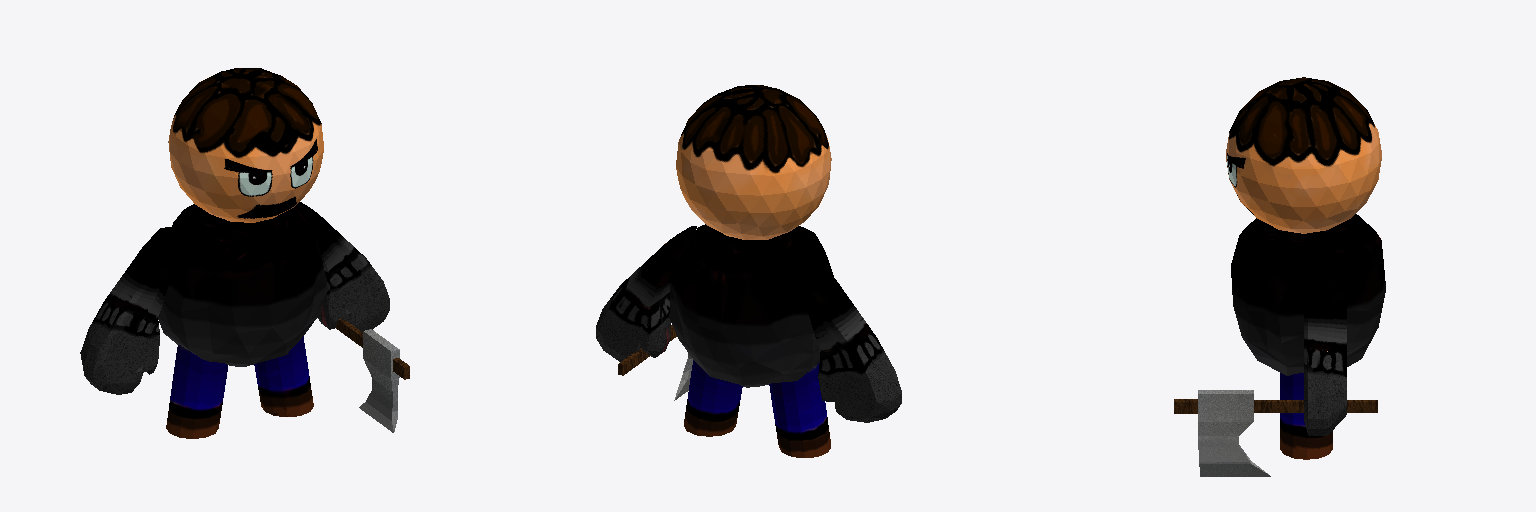
3 views of the same model, side by side, from view 1: azimuth 30°, elevation 25°; view 2: azimuth 150°, elevation 25°; view 3: azimuth 270°, elevation 25° (orthographic).
Parts seen in each view (by area): view 1: Untitled_Sphere.001; view 2: Untitled_Sphere.001; view 3: Untitled_Sphere.001.
Part boxes in pixels (x1,y1,x2,y2): Untitled_Sphere.001: (80, 68, 409, 438); Untitled_Sphere.001: (596, 85, 901, 457); Untitled_Sphere.001: (1174, 77, 1385, 476).
Bounding box in the file's own units: 7.21 × 8 × 4.47.
Materials: 1 (1 with a texture image).